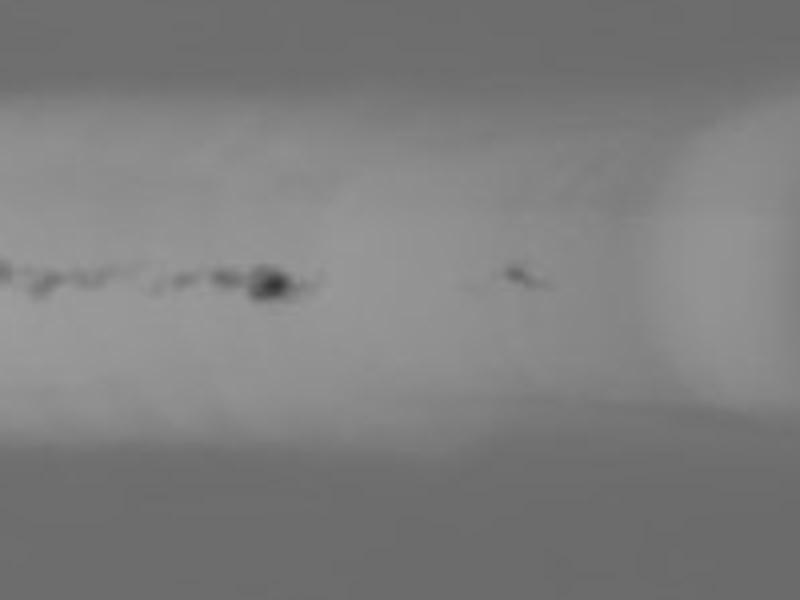defect: (249, 263, 292, 306), (209, 263, 243, 291), (29, 271, 63, 297), (69, 268, 109, 290), (502, 263, 527, 289), (145, 280, 166, 302), (168, 272, 194, 289), (1, 256, 9, 289)
